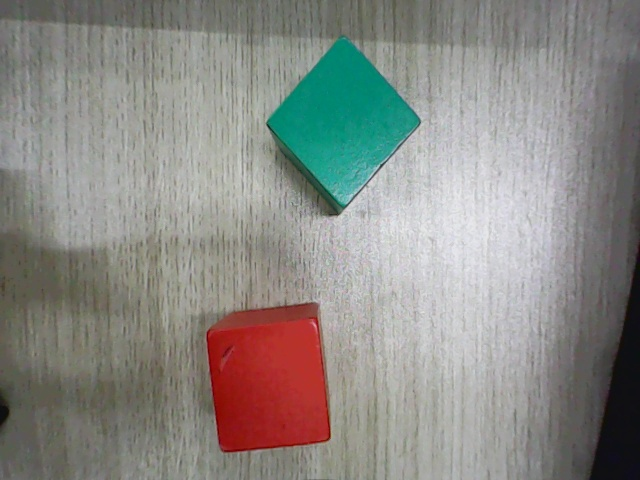upside of big cube: (267, 34, 422, 208), (206, 316, 331, 453)
